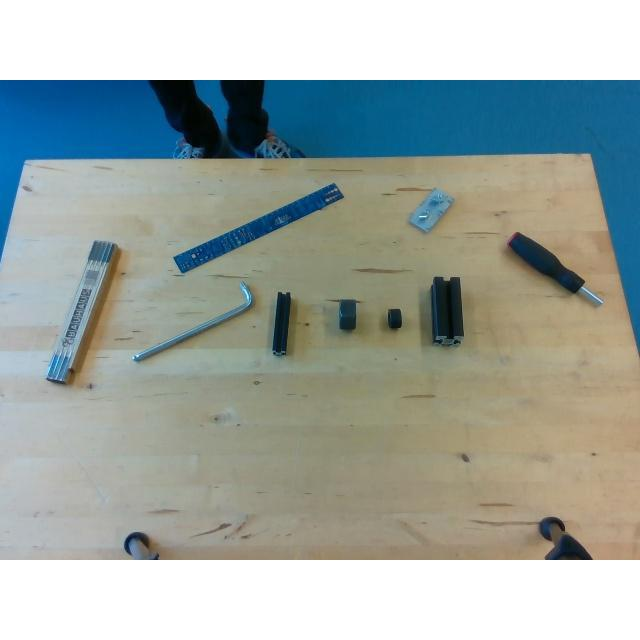AllenKey: (133, 280, 255, 362)
F20_20_B: (270, 291, 290, 354)
M20: (386, 308, 402, 330)
M30: (338, 298, 357, 332)
S40_40_B: (431, 276, 462, 344)
